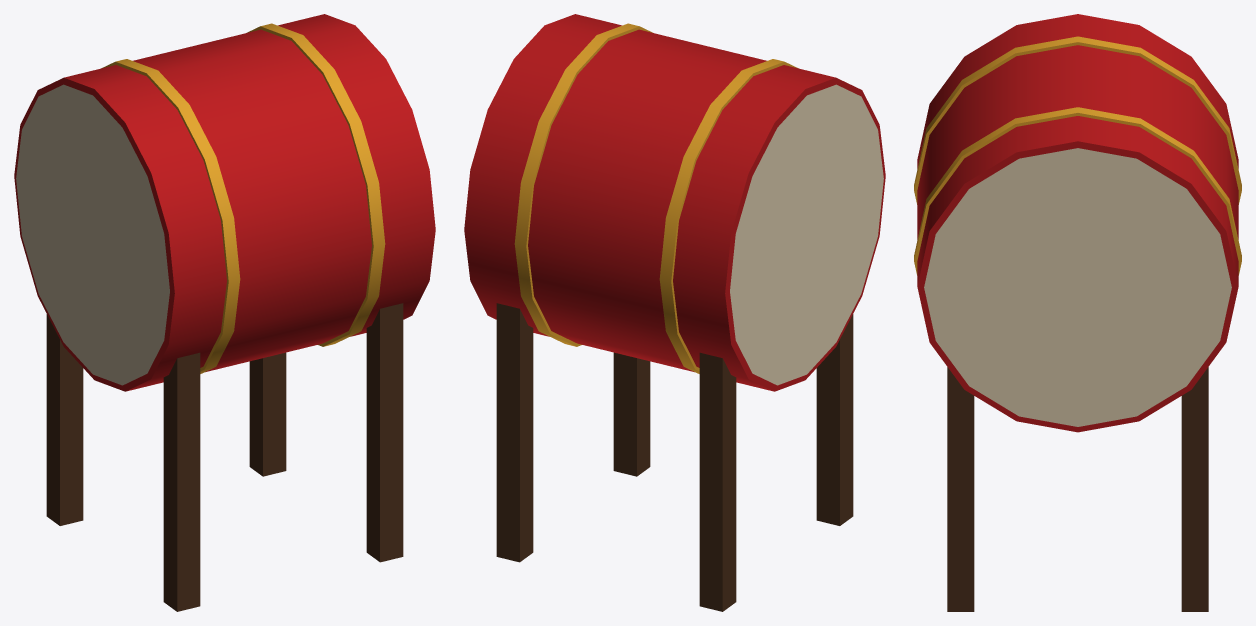
Rendered from CB_PROP_VN_Drum_A.glb.
3 views of the same model, side by side, from view 1: azimuth 30°, elevation 25°; view 2: azimuth 150°, elevation 25°; view 3: azimuth 270°, elevation 25° (orthographic).
Visible parts, largest first — view 1: CB_PROP_VN_Drum_A; view 2: CB_PROP_VN_Drum_A; view 3: CB_PROP_VN_Drum_A.
Part boxes in pixels (x1,y1,x2,y2): CB_PROP_VN_Drum_A: (14, 14, 435, 611); CB_PROP_VN_Drum_A: (464, 14, 885, 611); CB_PROP_VN_Drum_A: (914, 14, 1241, 611).
Size of the model in its own units: 0.91 by 1.59 by 0.98.
